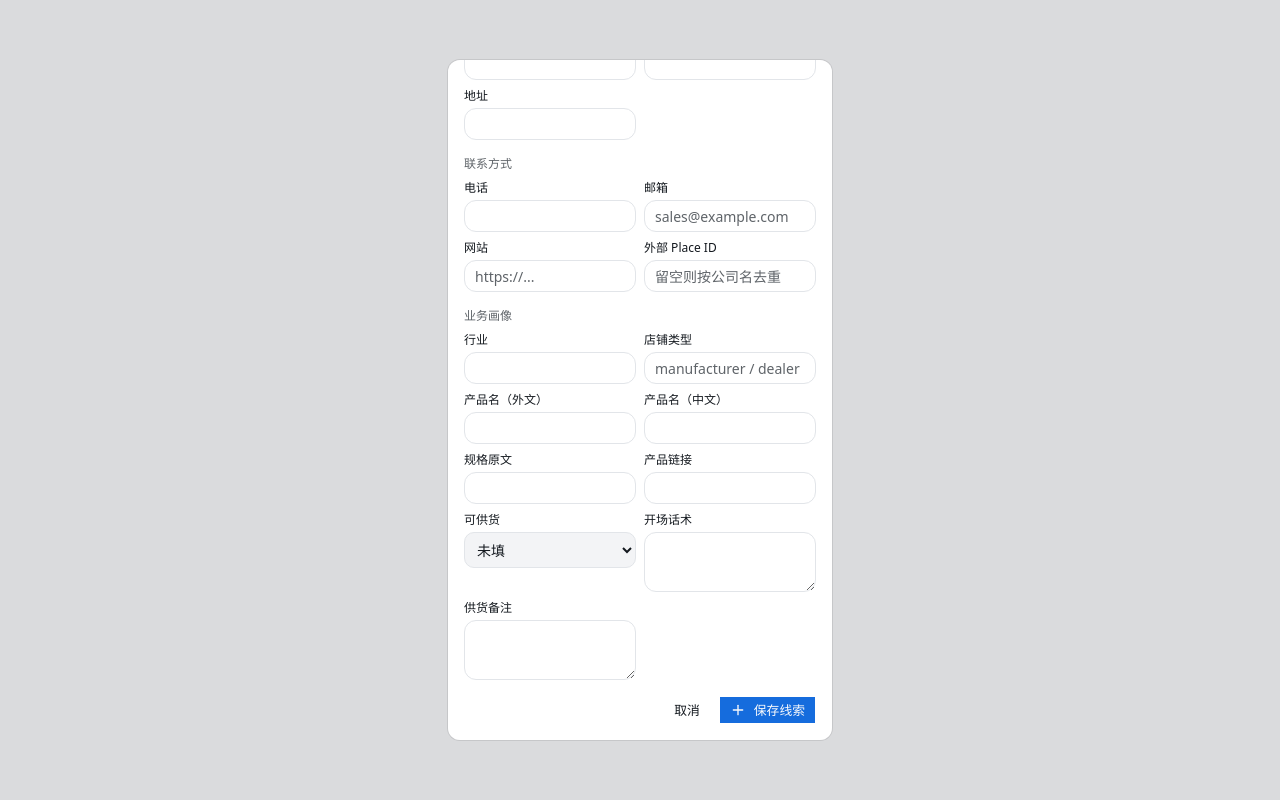
Scenario: ManualLeadDialog › 公司名称为空时本地拦截，不发请求
(page scrolled)
Click the button "保存线索". click: (767, 710)
box: [719, 696, 816, 724]
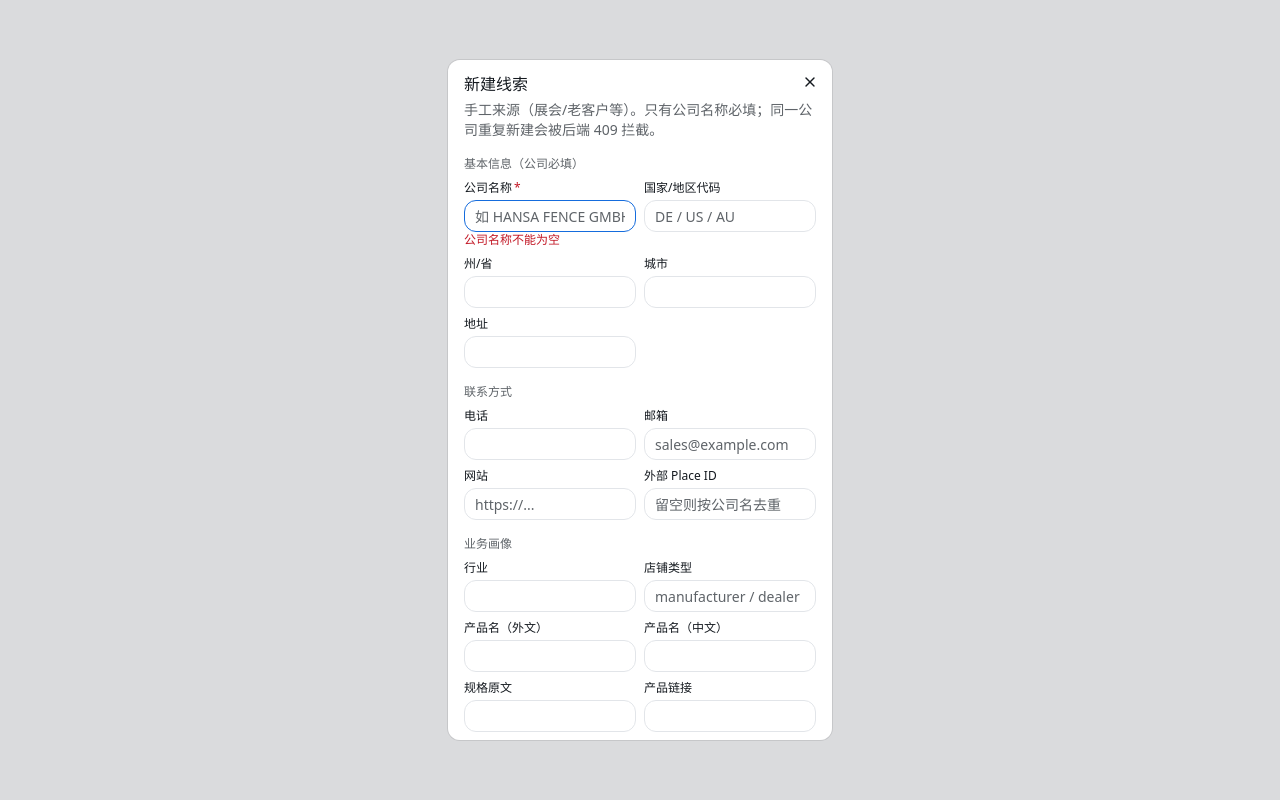
Check: the text "公司名称不能为空" is shown, box [464, 231, 560, 248]
